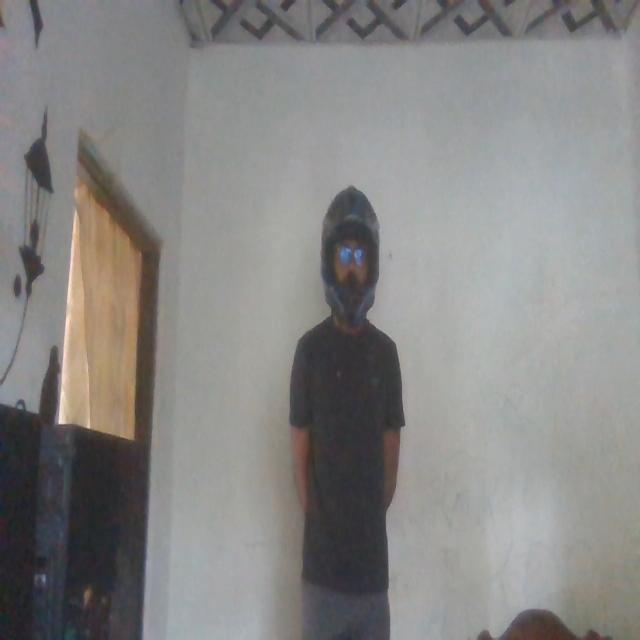Helmet_Wearer: (318, 180, 382, 326)
Person: (280, 171, 405, 640)
